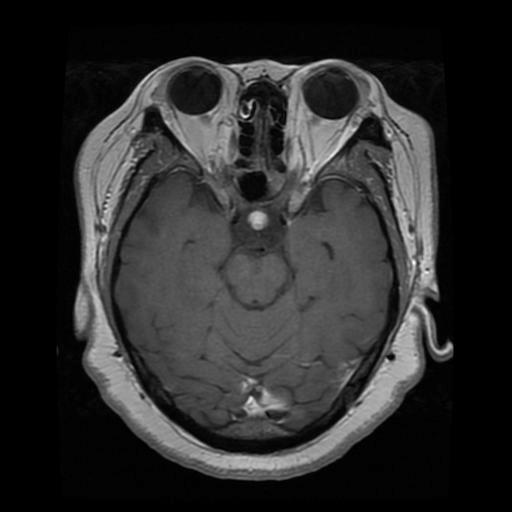Tumour-Pituitary: (245, 211, 269, 231)
